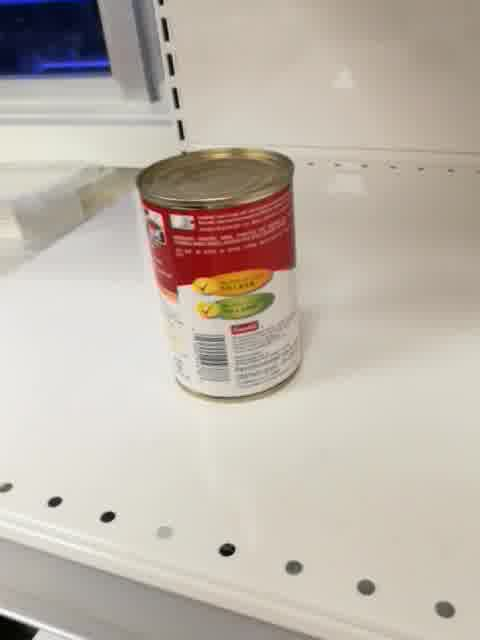tomatosoup: (133, 144, 304, 404)
